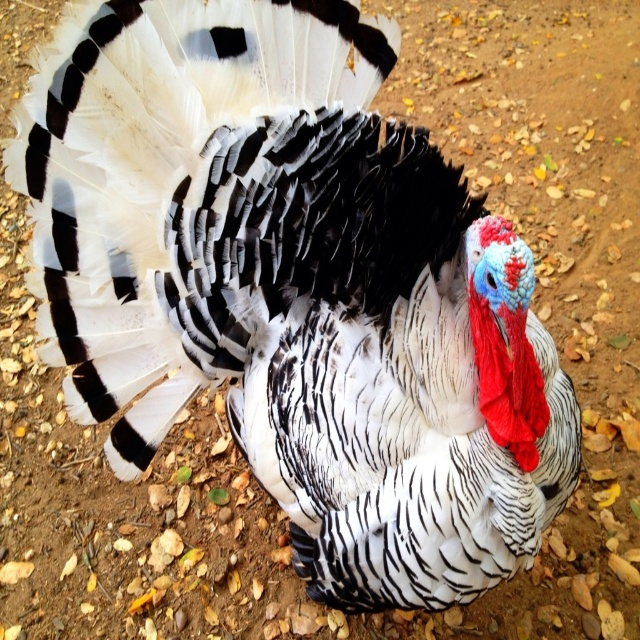Turkey: (0, 0, 583, 614)
